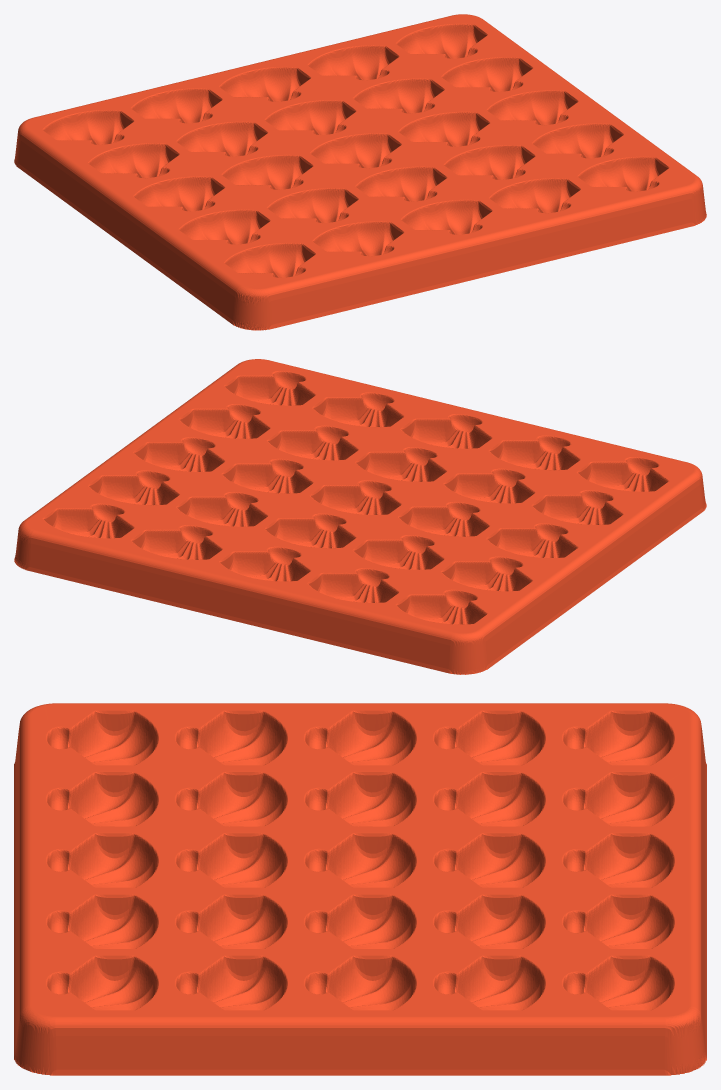
File: mold.glb
3 views of the same model, one above another, from view 1: azimuth 30°, elevation 25°; view 2: azimuth 150°, elevation 25°; view 3: azimuth 270°, elevation 25° (orthographic). The views are drawn at different scales.
Visible parts, largest first — view 1: geometry_0; view 2: geometry_0; view 3: geometry_0.
Part boxes in pixels (bbox=[...]): geometry_0: bbox=[14, 14, 706, 330]; geometry_0: bbox=[14, 359, 706, 674]; geometry_0: bbox=[14, 703, 706, 1075].
Bounding box in the file's own units: 0.1636 × 0.0121 × 0.1467.
